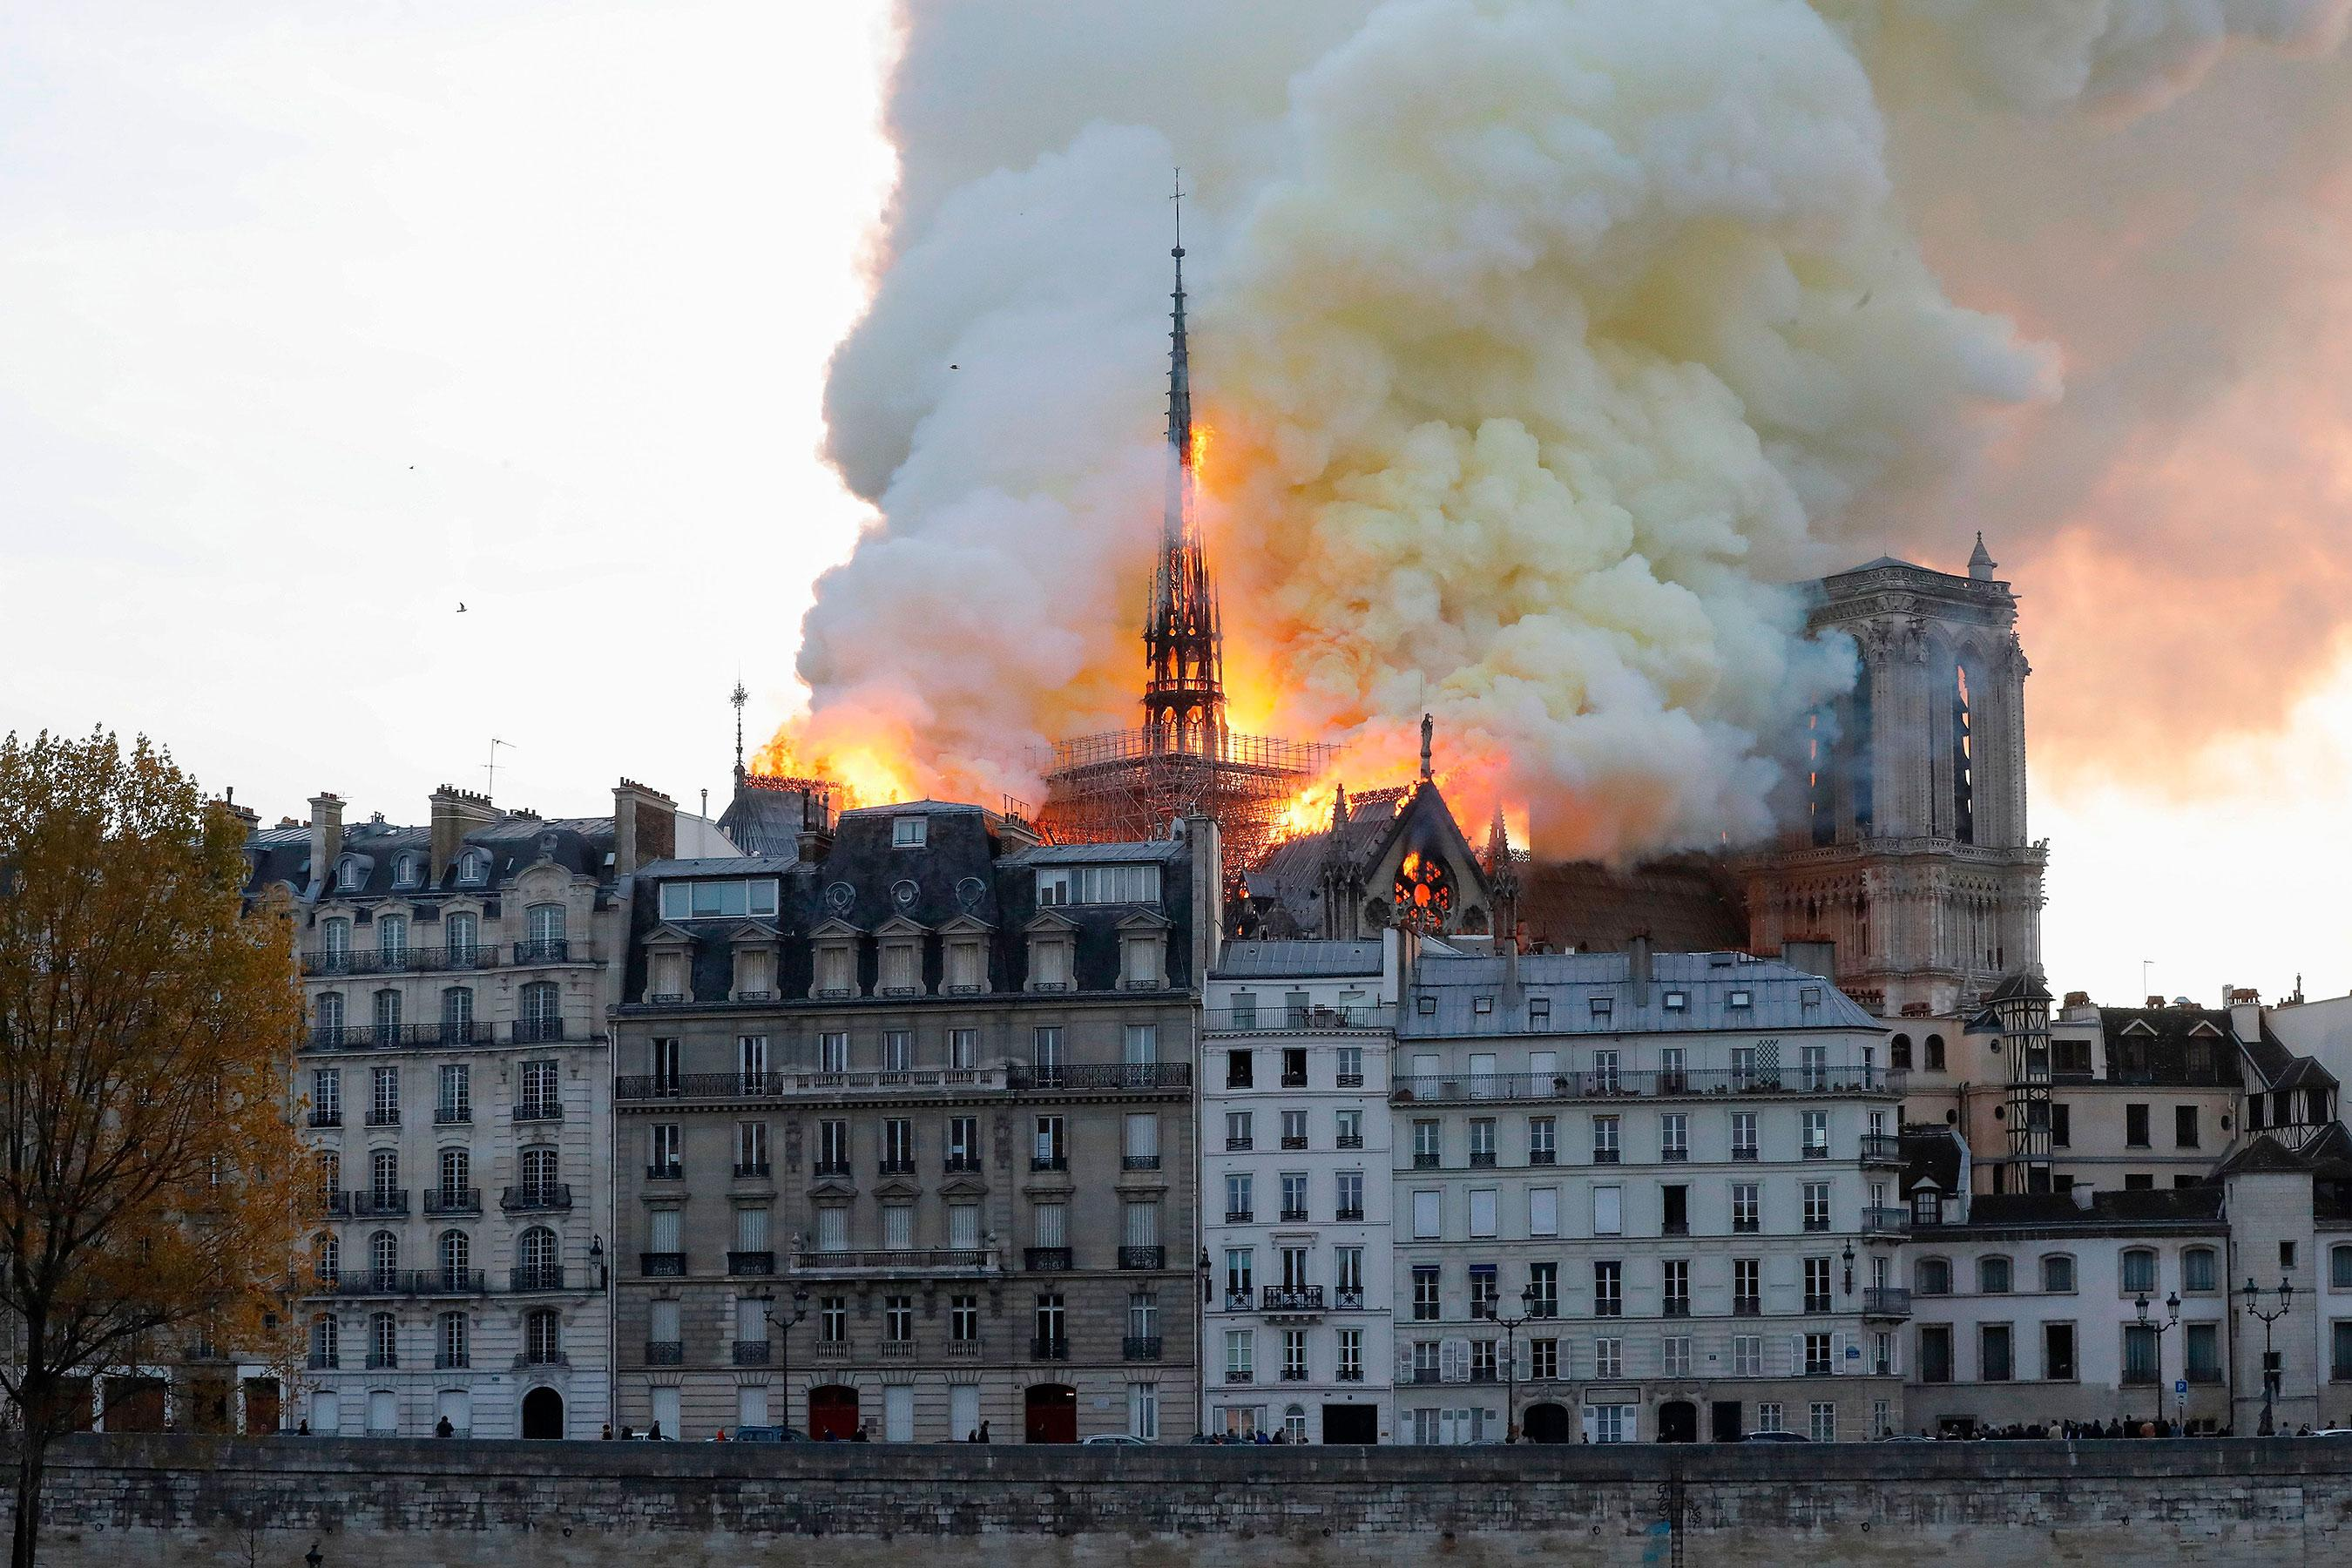Fire: (810, 371, 1529, 877)
